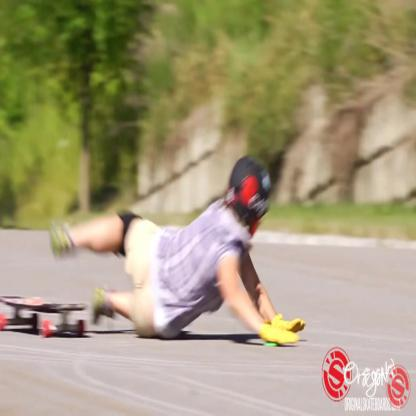Fall_Down: (48, 152, 309, 352)
